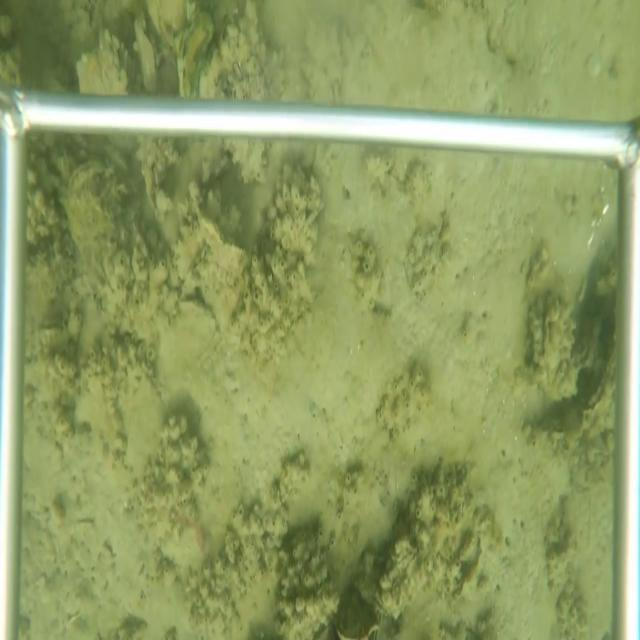Oyster-Closed: (556, 335, 615, 450), (193, 201, 252, 280), (172, 23, 197, 97)
Oyster-Indeterminate: (131, 20, 159, 93)
